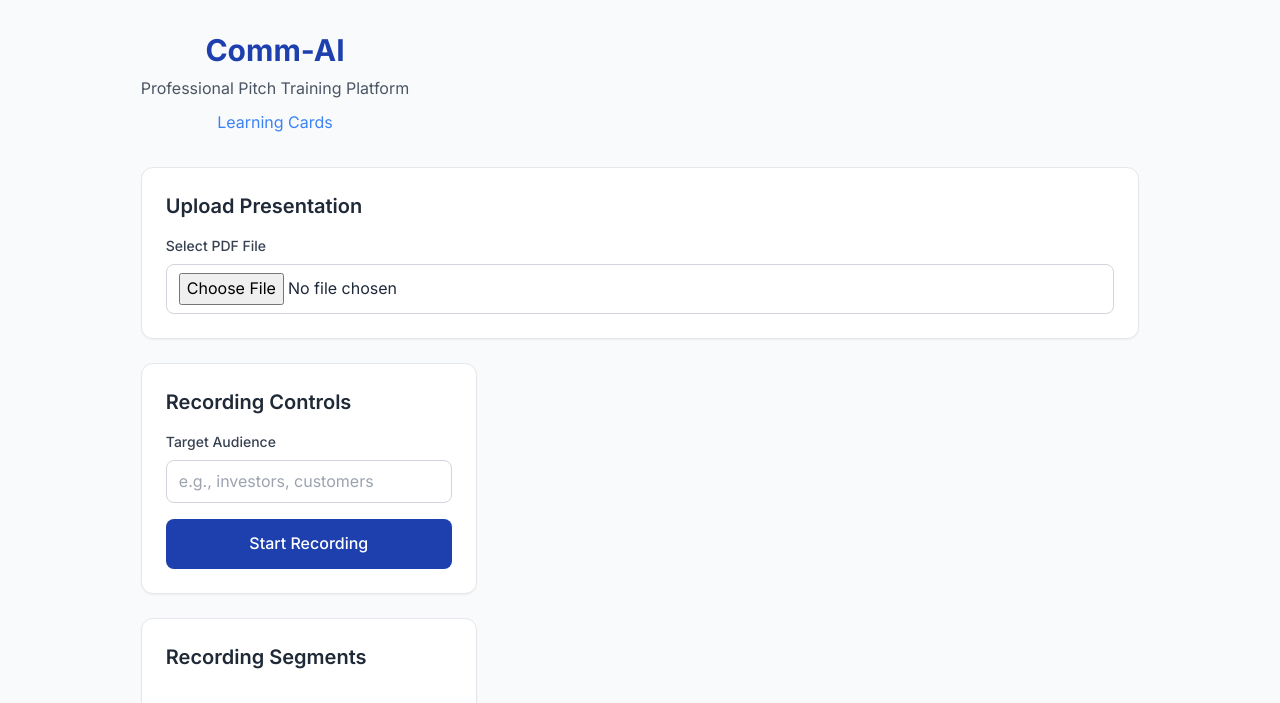
Test: PresenterPage Integration › shows selected audience in recording segments
Note: Select audience first
Type "customers" into the field labelled "Target Audience".
click(309, 482); type("customers")  # box [166,460,452,503]
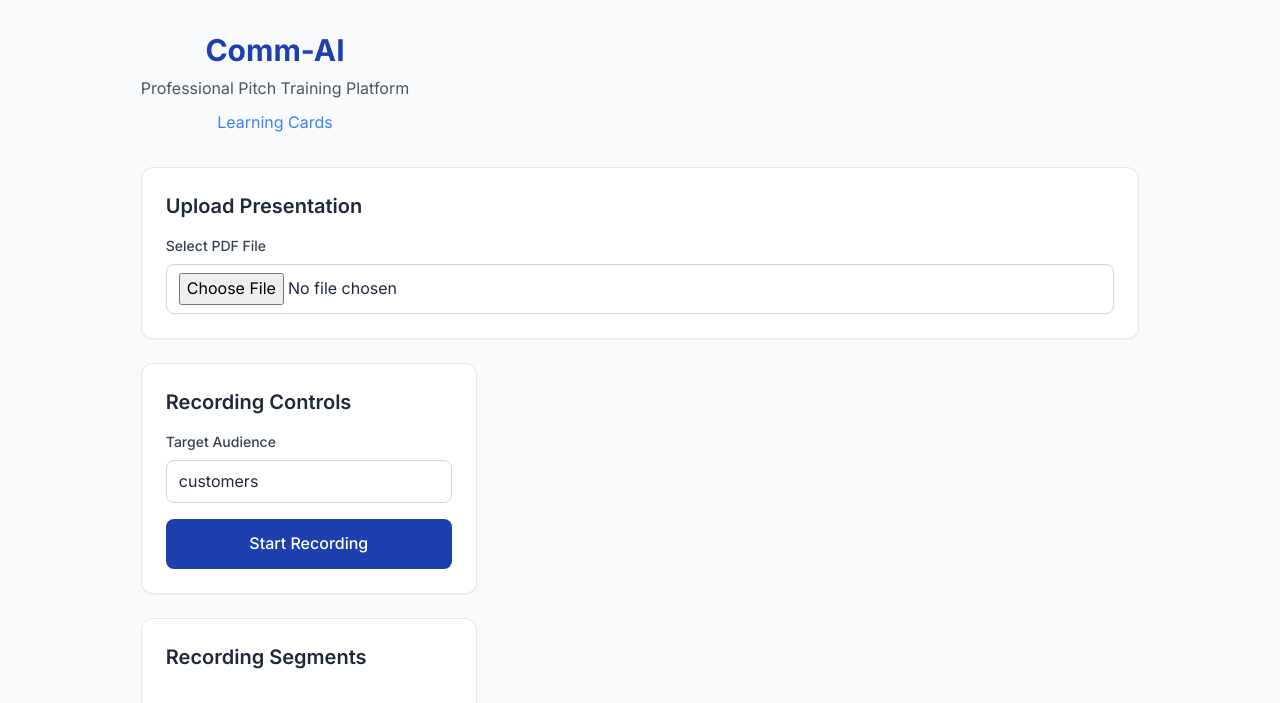
Note: Start and stop recording to create a segment
Click the button "Start Recording".
click(309, 544)  # box [166,519,452,569]
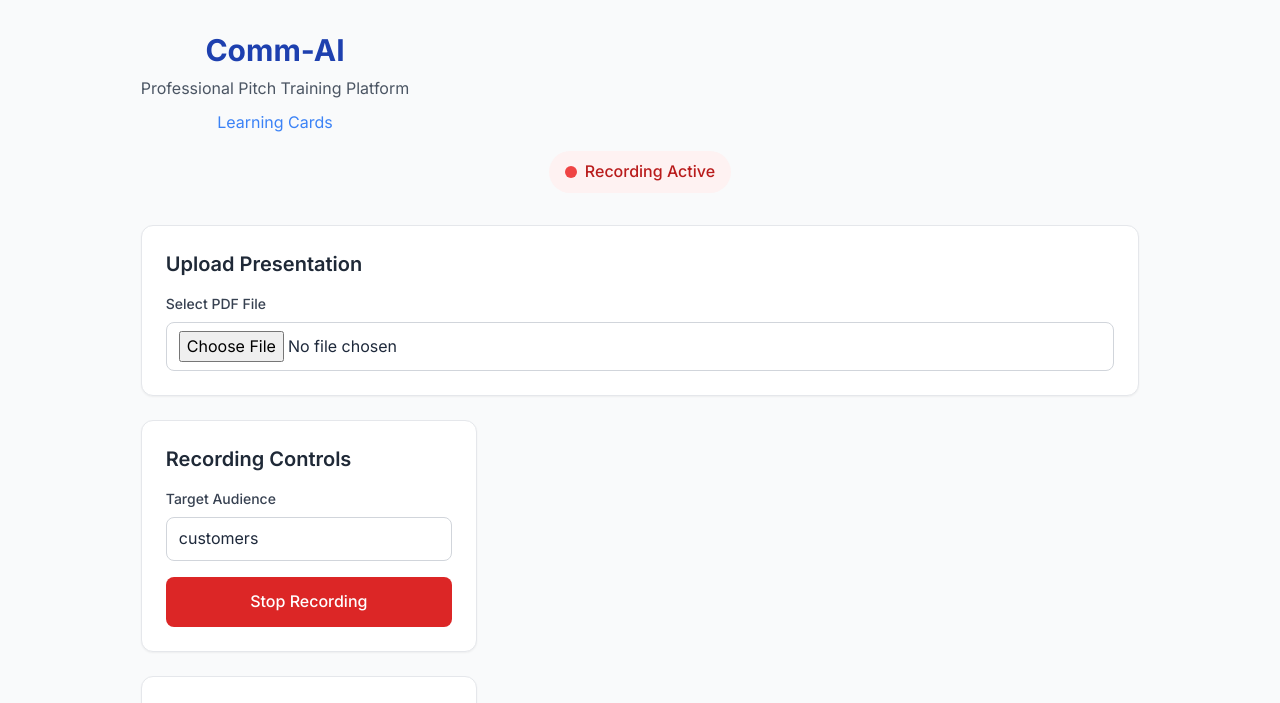
Click the button "Stop Recording".
click(309, 602)  # box [166,577,452,627]
(page scrolled)
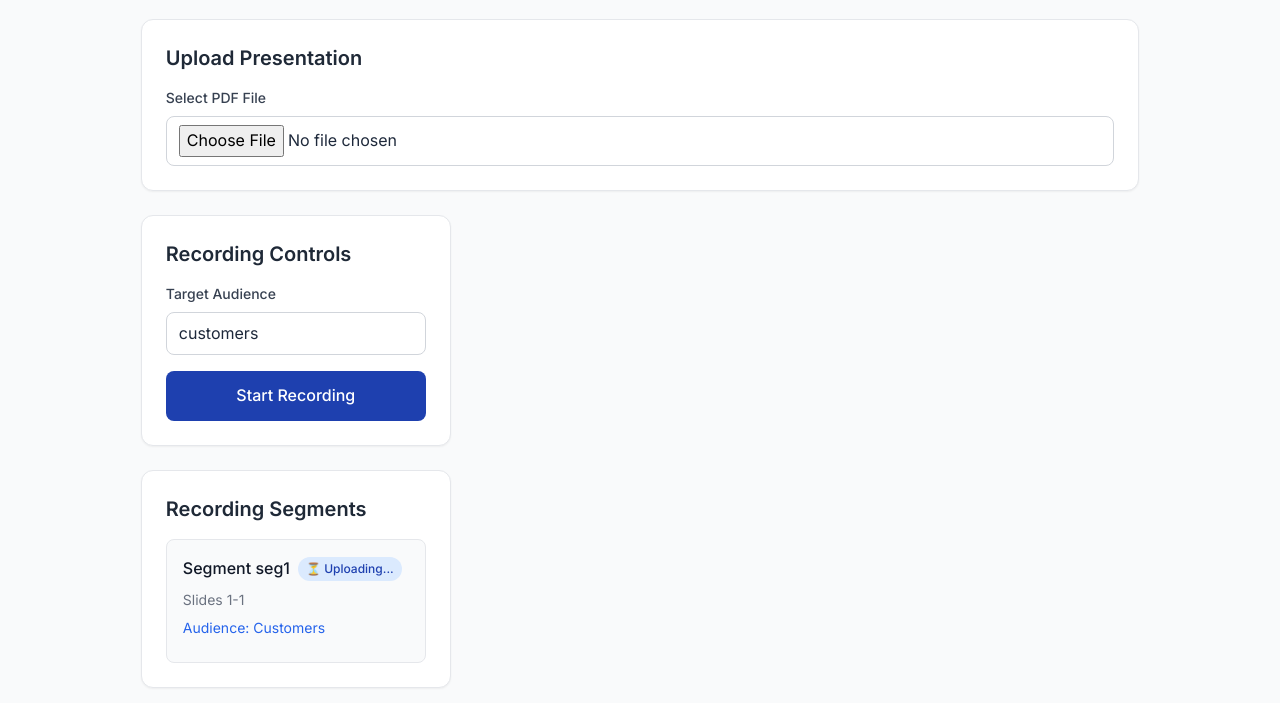
Now the text "Audience: Customers" is shown, box [183,619,325,636]
